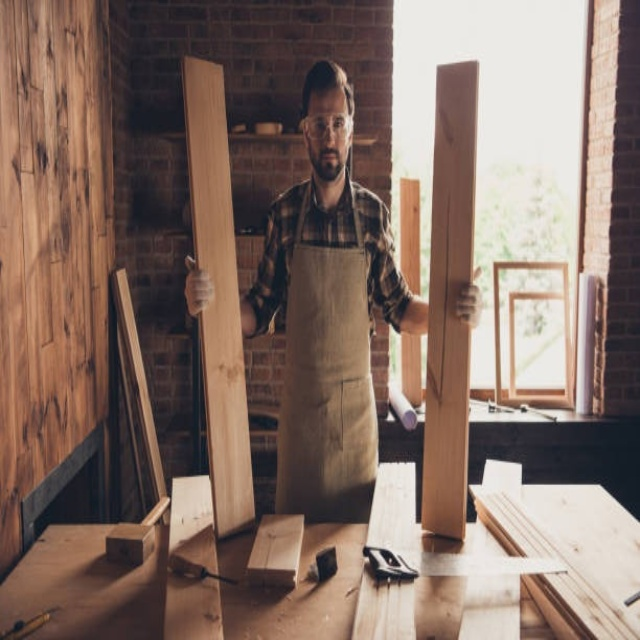Gafas: (304, 114, 352, 139)
Sin_guantes: (184, 264, 215, 317), (455, 279, 485, 328)
Sin_mascara: (316, 146, 343, 174)
